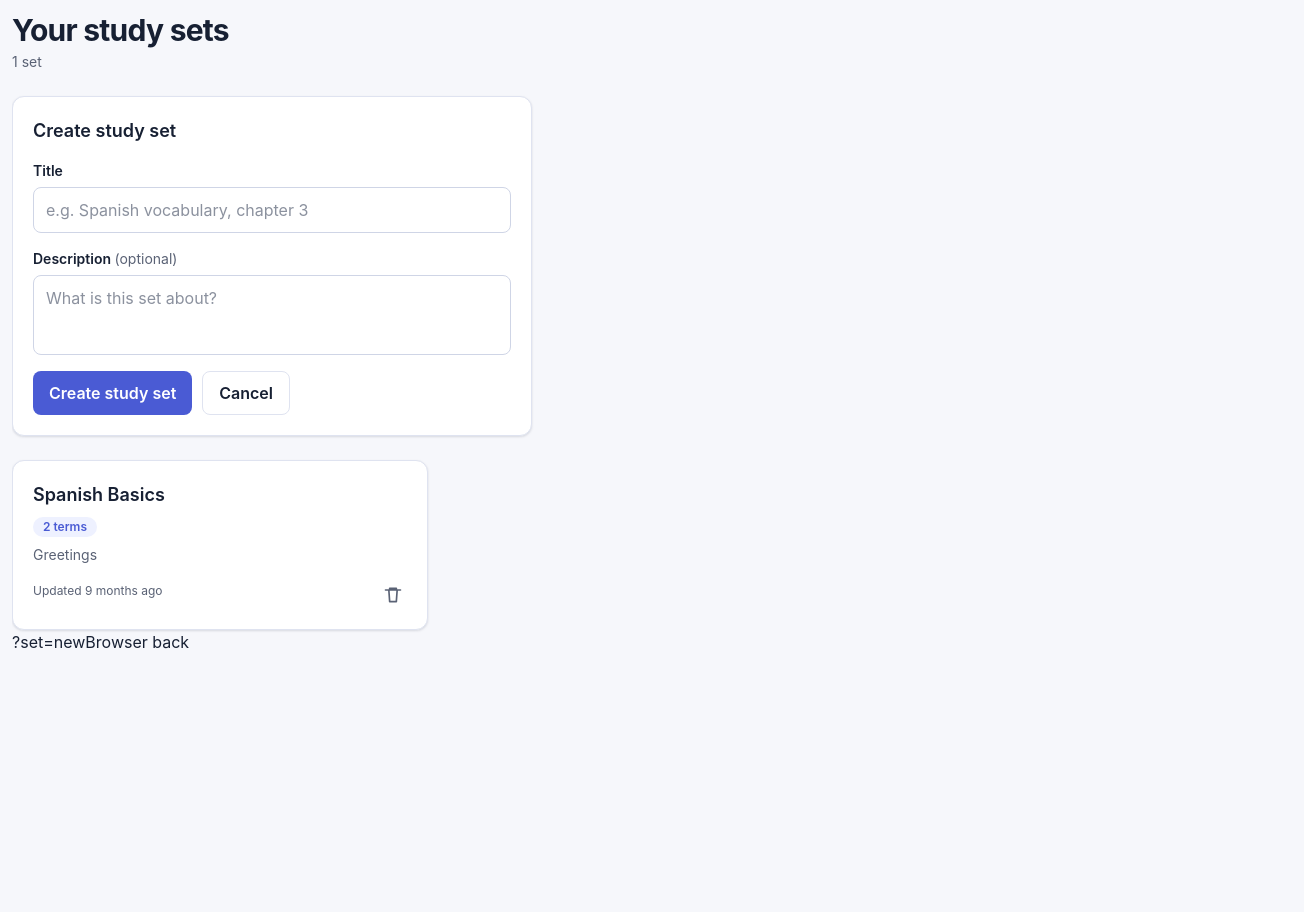
Test: StudySetsPanel › restores the create form directly from ?set=new and cancelling returns to the list
The image size is (1304, 912).
Expected: the heading "Create study set" is shown, [33,120,176,141]
Click the button "Cancel". click: (246, 393)
box: [202,371,290,415]
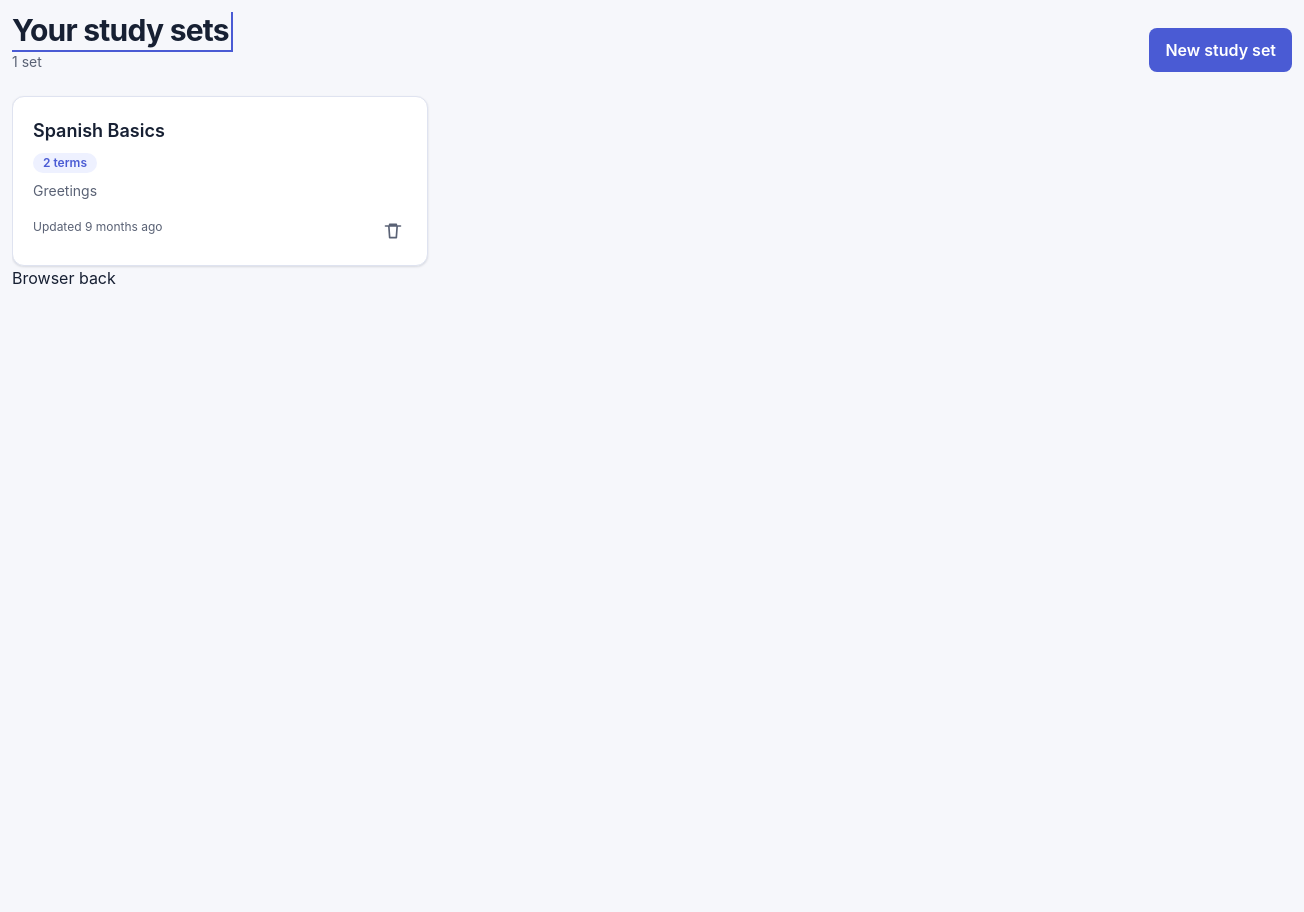
Expected: the heading "Create study set" is gone
